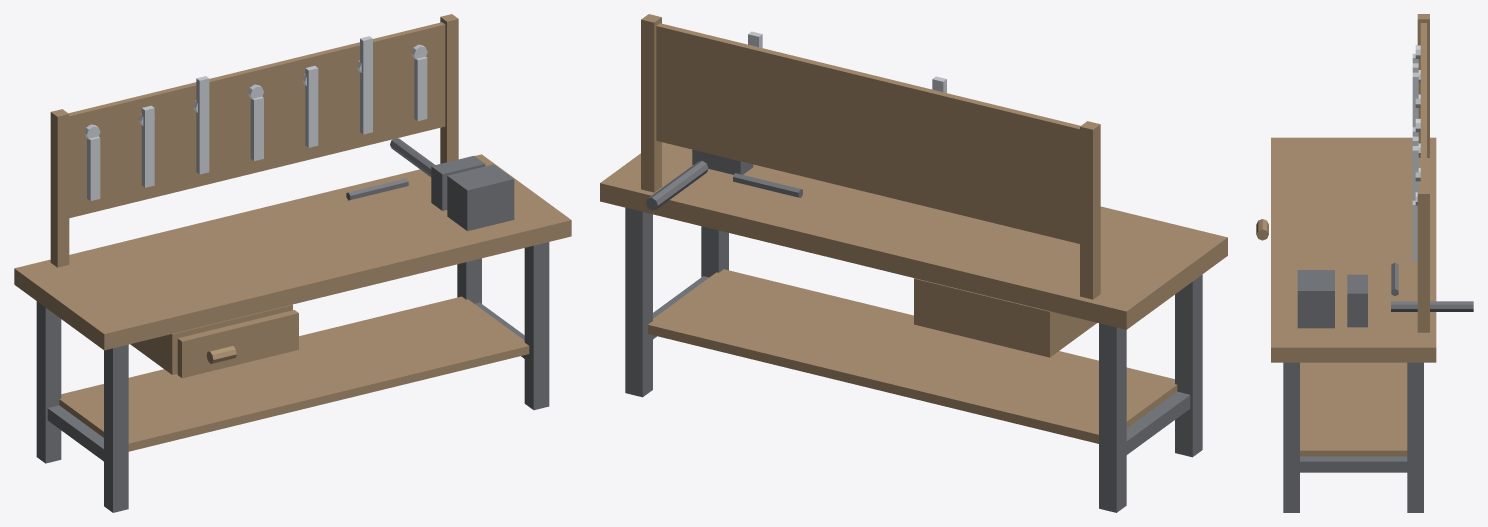
Rendered from steampunk-airship-dock-and-workshop-workbench-ed991aad.glb.
3 views of the same model, side by side, from view 1: azimuth 30°, elevation 25°; view 2: azimuth 150°, elevation 25°; view 3: azimuth 270°, elevation 25° (orthographic). The views are drawn at different scales.
Visible parts, largest first — view 1: workbench, bench-drawer; view 2: workbench; view 3: workbench.
Part boxes in pixels (x1,y1,x2,y2): workbench: (14,14,571,512); bench-drawer: (177,310,298,378); workbench: (600,14,1227,512); workbench: (1271,14,1473,512).
Size of the model in its own units: 2.4 by 1.68 by 1.05.
